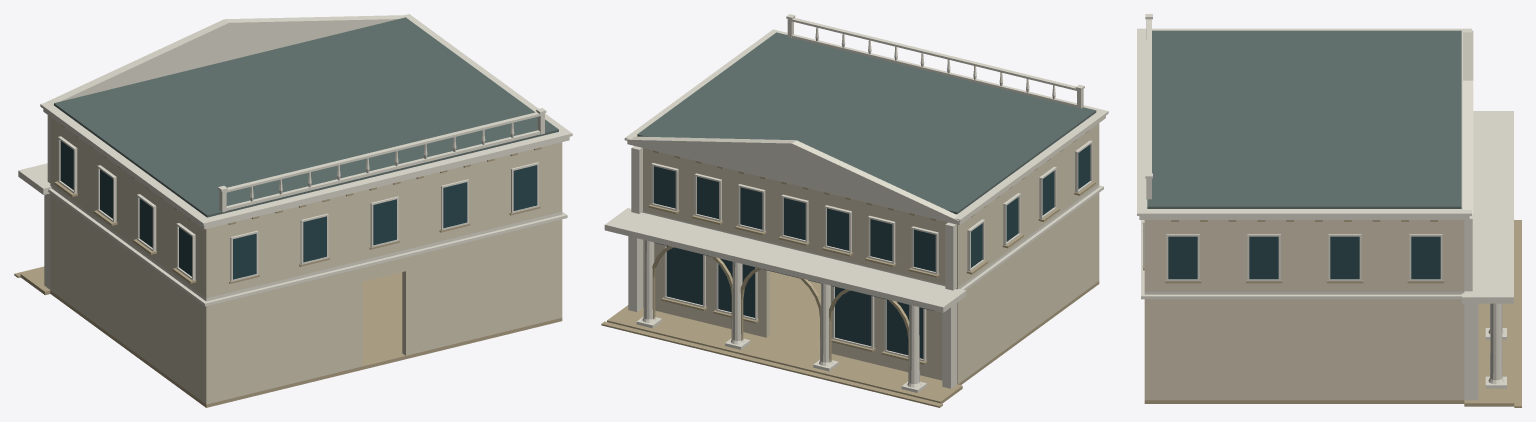
File: KOL_T25_BANK.fbx
3 views of the same model, side by side, from view 1: azimuth 30°, elevation 25°; view 2: azimuth 150°, elevation 25°; view 3: azimuth 270°, elevation 25° (orthographic). The views are drawn at different scales.
Parts seen in each view (by area): view 1: KOL_T25_BANK__Body, KOL_T25_BANK__Roof, KOL_T25_BANK__Trim, KOL_T25_BANK__Stone, KOL_T25_BANK__Glass; view 2: KOL_T25_BANK__Trim, KOL_T25_BANK__Roof, KOL_T25_BANK__Body, KOL_T25_BANK__Stone, KOL_T25_BANK__Glass; view 3: KOL_T25_BANK__Roof, KOL_T25_BANK__Body, KOL_T25_BANK__Trim, KOL_T25_BANK__Stone, KOL_T25_BANK__Glass.
Part boxes in pixels (bbox=[...]): KOL_T25_BANK__Body: bbox=[50, 117, 562, 404]; KOL_T25_BANK__Roof: bbox=[54, 17, 558, 217]; KOL_T25_BANK__Trim: bbox=[18, 14, 572, 306]; KOL_T25_BANK__Stone: bbox=[14, 125, 562, 407]; KOL_T25_BANK__Glass: bbox=[60, 141, 537, 279]; KOL_T25_BANK__Trim: bbox=[604, 14, 1108, 392]; KOL_T25_BANK__Roof: bbox=[637, 32, 1096, 214]; KOL_T25_BANK__Body: bbox=[643, 123, 1099, 384]; KOL_T25_BANK__Stone: bbox=[601, 130, 1099, 407]; KOL_T25_BANK__Glass: bbox=[653, 144, 1090, 358]; KOL_T25_BANK__Roof: bbox=[1147, 30, 1461, 208]; KOL_T25_BANK__Body: bbox=[1144, 220, 1464, 400]; KOL_T25_BANK__Trim: bbox=[1137, 14, 1513, 400]; KOL_T25_BANK__Stone: bbox=[1143, 219, 1521, 407]; KOL_T25_BANK__Glass: bbox=[1168, 236, 1440, 279].
Bounding box in the file's own units: 69 × 40.4 × 60.2.
